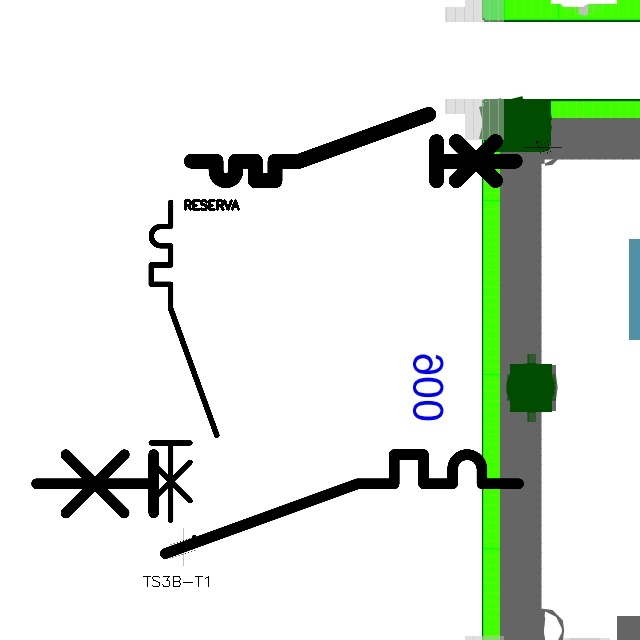interruptor_termomagnetico: (24, 442, 531, 566), (183, 106, 523, 189), (143, 194, 225, 528)
